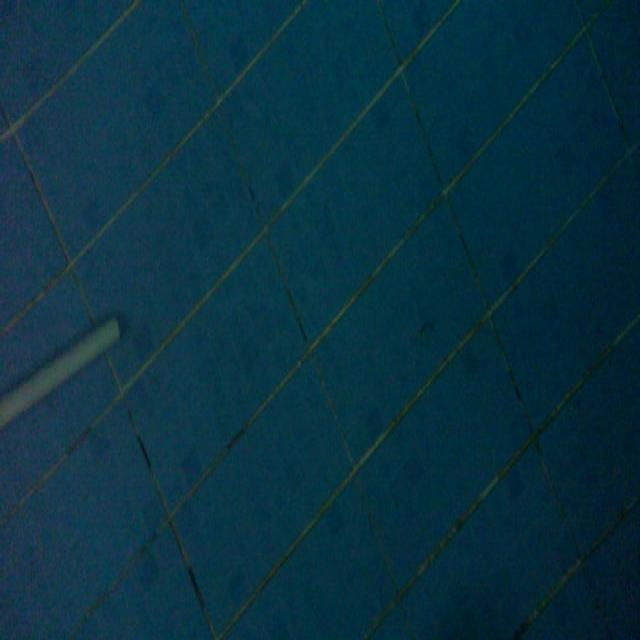Cube: (0, 309, 123, 432)
